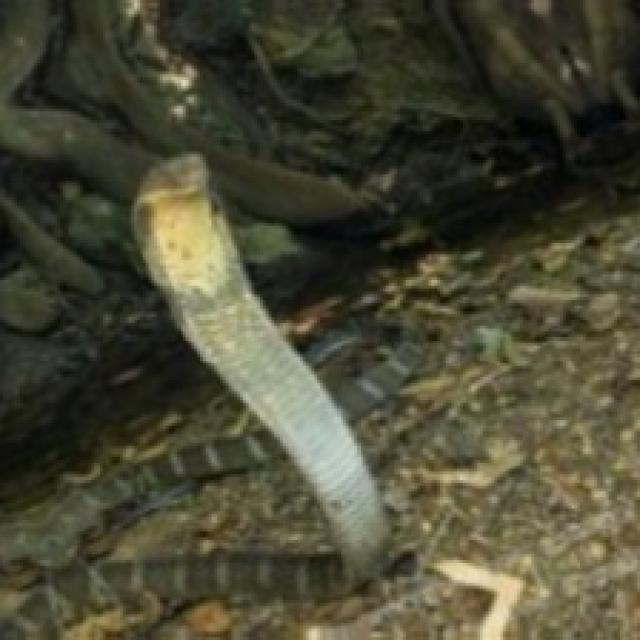king cobra: (0, 0, 386, 580), (134, 154, 386, 577)
